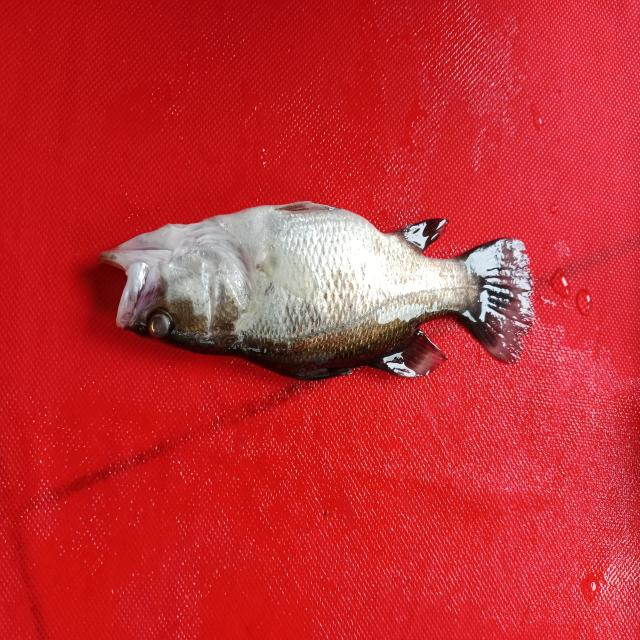ikan: (92, 178, 549, 422)
